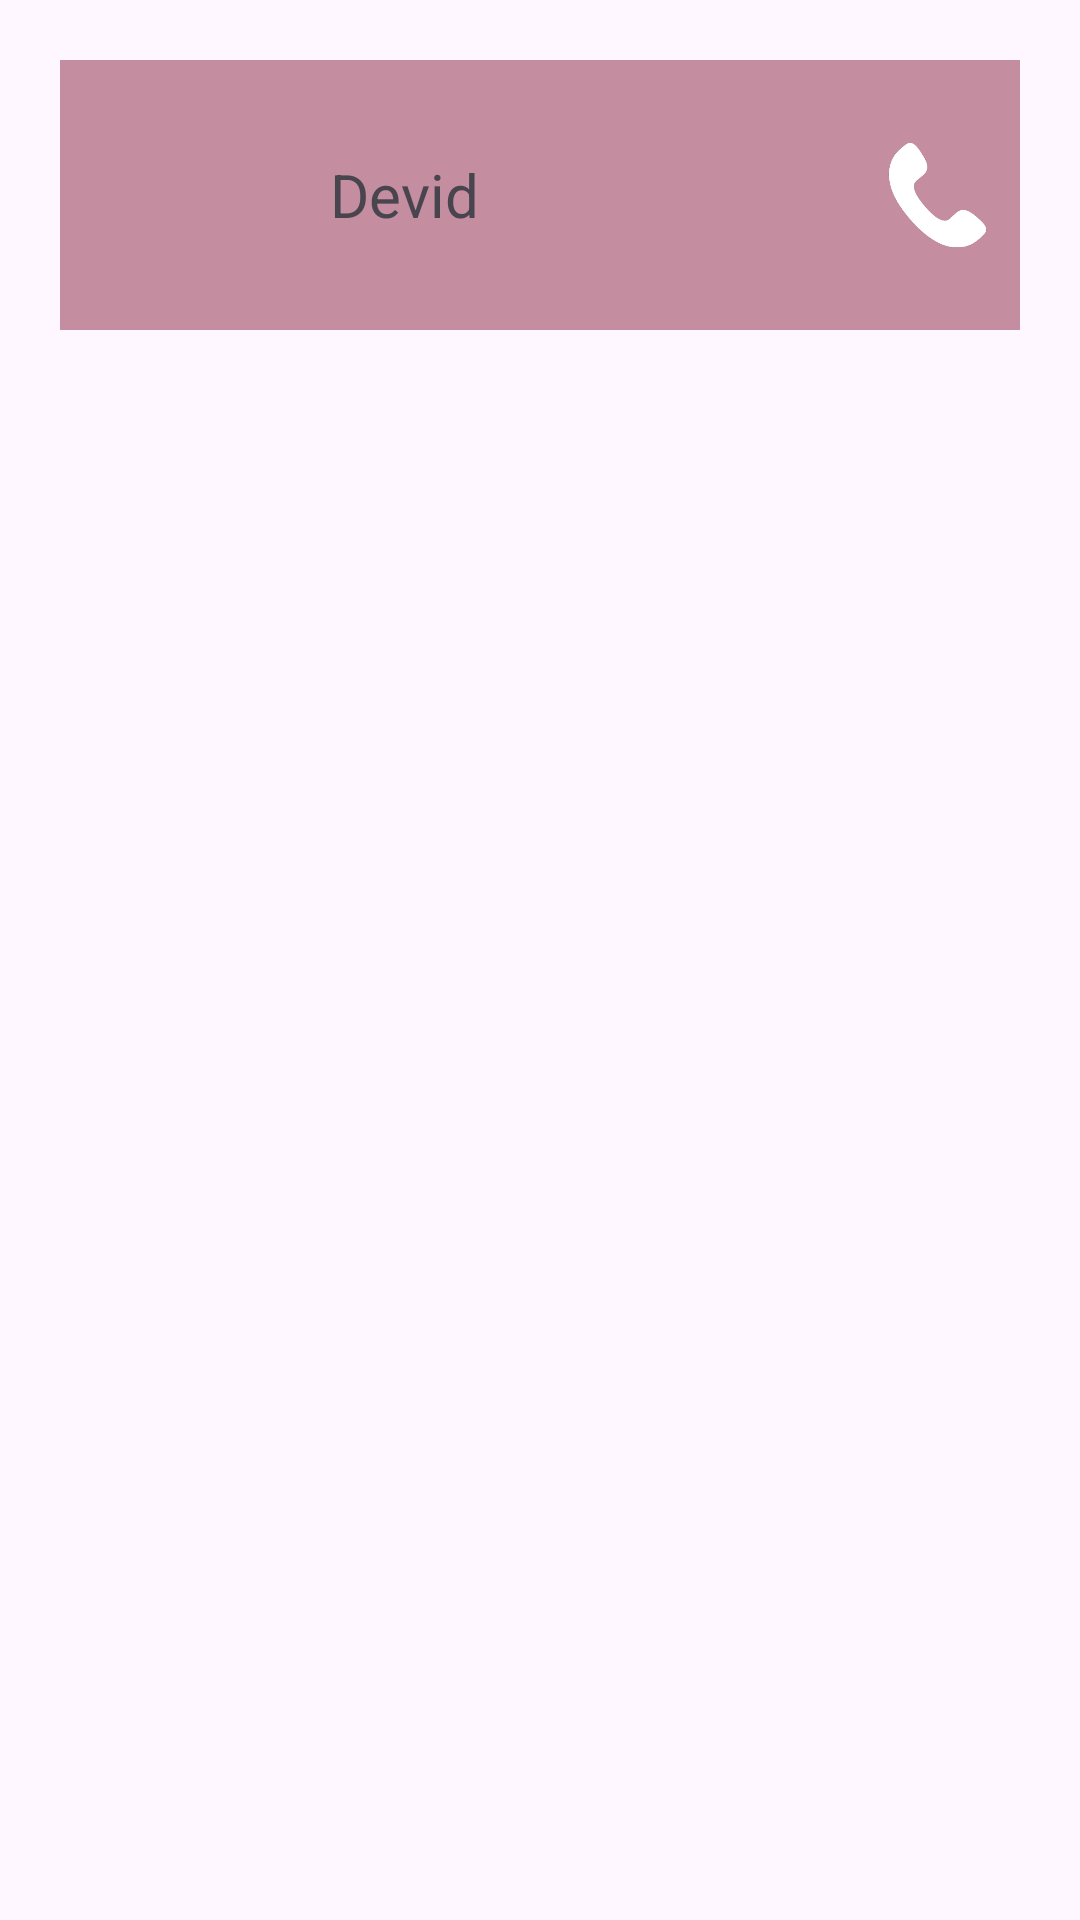

Locate icon controls on the screen. Image size 1080px x 1920px, boxes as (x1, y1, x2, y2).
call: (889, 143, 986, 247)
